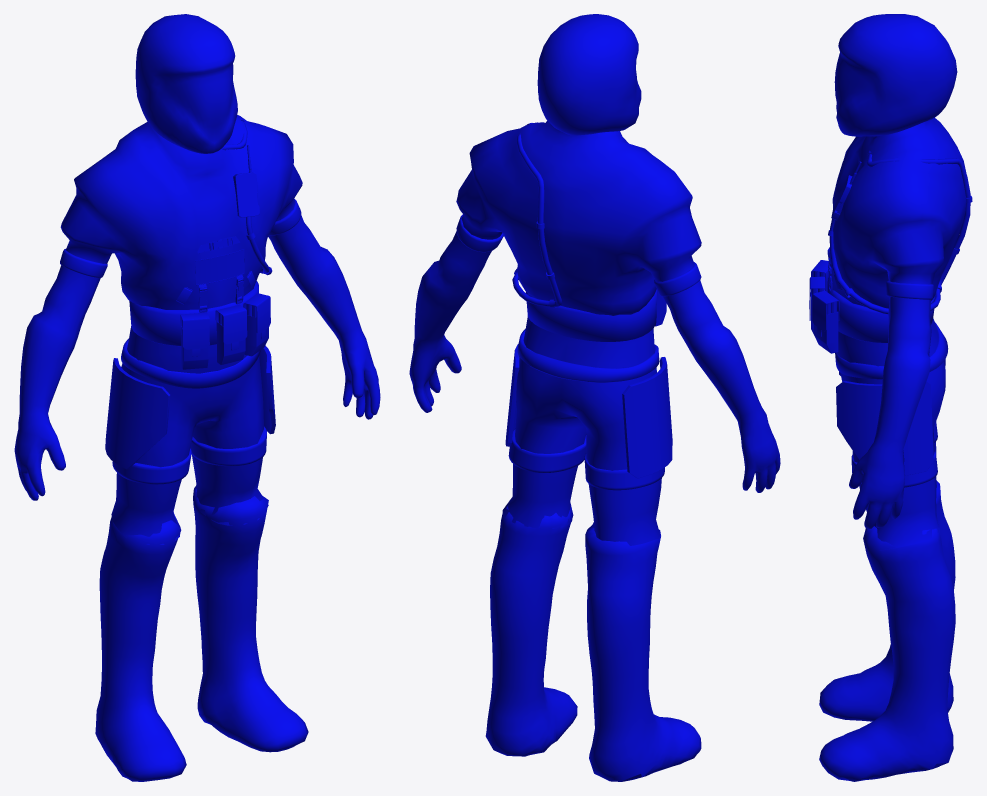
File: complete_merc.FBX
3 views of the same model, side by side, from view 1: azimuth 30°, elevation 25°; view 2: azimuth 150°, elevation 25°; view 3: azimuth 270°, elevation 25° (orthographic).
Parts seen in each view (by area): view 1: Merc_Body_Low; view 2: Merc_Body_Low; view 3: Merc_Body_Low.
Boxes of the visible parts, x1,y1,x2,y2 form: Merc_Body_Low: (14,14,380,781); Merc_Body_Low: (409,14,780,781); Merc_Body_Low: (809,14,972,781).
Size of the model in its own units: 35.69 by 69.71 by 14.28.
